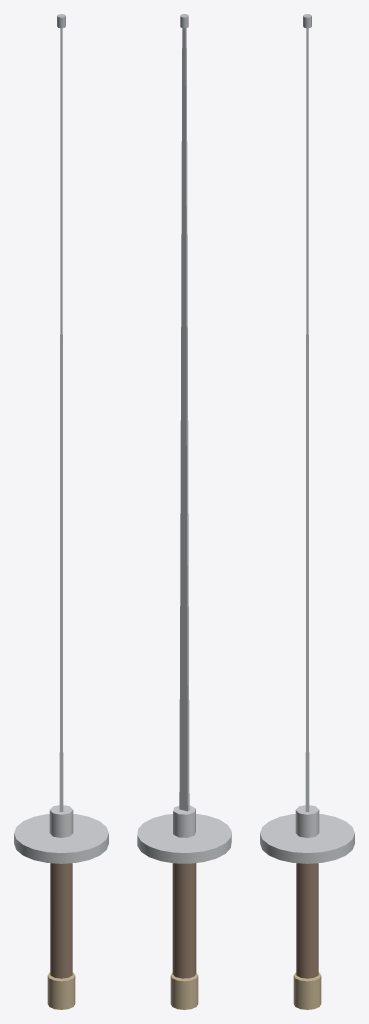
Rendered from foil.glb.
3 views of the same model, side by side, from view 1: azimuth 90°, elevation 25°; view 2: azimuth 150°, elevation 25°; view 3: azimuth 270°, elevation 25° (orthographic).
Visible parts, largest first — view 1: foil_steel, foil_grip, foil_brass; view 2: foil_steel, foil_grip, foil_brass; view 3: foil_steel, foil_grip, foil_brass.
Part boxes in pixels (x1=…): foil_steel: x1=14, y1=28, x2=108, y2=863; foil_grip: x1=50, y1=863, x2=72, y2=978; foil_brass: x1=47, y1=972, x2=75, y2=1009; foil_steel: x1=137, y1=28, x2=231, y2=863; foil_grip: x1=172, y1=863, x2=196, y2=978; foil_brass: x1=170, y1=973, x2=198, y2=1009; foil_steel: x1=260, y1=28, x2=354, y2=863; foil_grip: x1=296, y1=863, x2=318, y2=978; foil_brass: x1=293, y1=972, x2=321, y2=1009.
Bounding box in the file's own units: 0.096 × 1.1 × 0.096.
